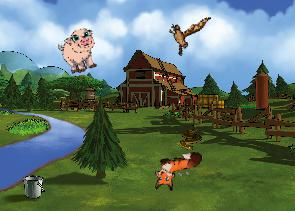eagle: (161, 5, 211, 61)
fox: (149, 149, 206, 193)
pig: (55, 25, 104, 77)
